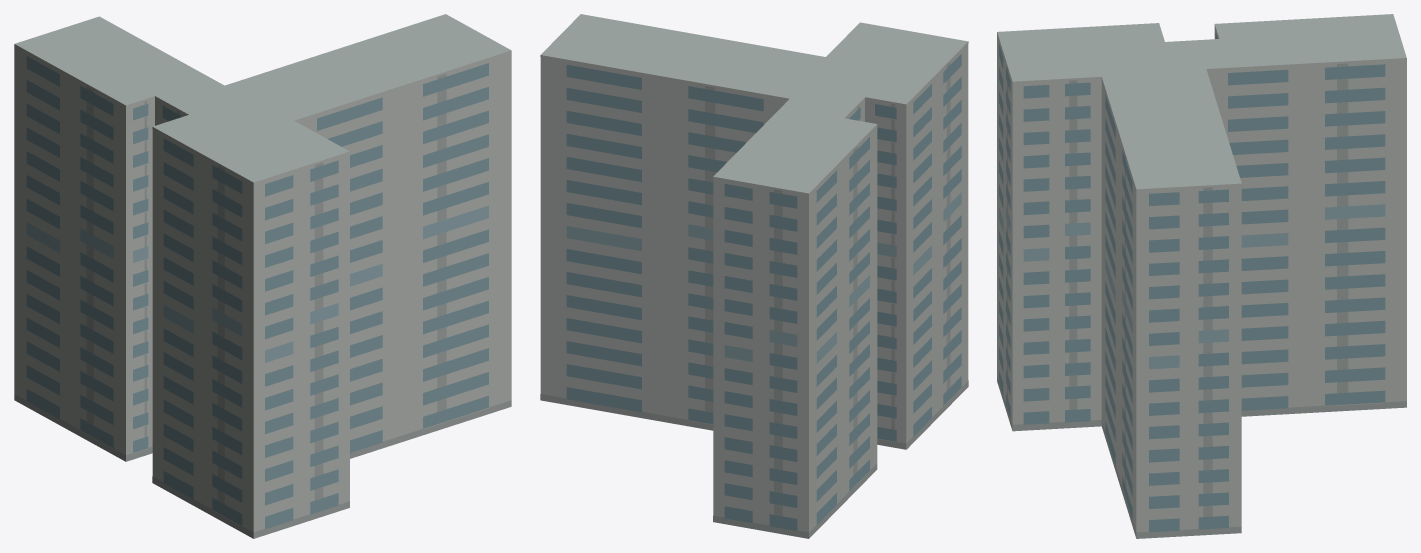
Rendered from residential-b37791e1-cdf1-412c-bd54-f1cf3bf06a0a.glb.
The picture shows the model from 3 angles, left to right: view 1: azimuth 30°, elevation 25°; view 2: azimuth 150°, elevation 25°; view 3: azimuth 270°, elevation 25°; orthographic projection. The views are drawn at different scales.
Visible parts, largest first — view 1: residential-b37791e1-cdf1-412c-bd54-f1cf3bf06a0a.tmp; view 2: residential-b37791e1-cdf1-412c-bd54-f1cf3bf06a0a.tmp; view 3: residential-b37791e1-cdf1-412c-bd54-f1cf3bf06a0a.tmp.
Part boxes in pixels (box(x1,y1,x2,y2)): residential-b37791e1-cdf1-412c-bd54-f1cf3bf06a0a.tmp: box(14, 14, 511, 538); residential-b37791e1-cdf1-412c-bd54-f1cf3bf06a0a.tmp: box(540, 14, 968, 538); residential-b37791e1-cdf1-412c-bd54-f1cf3bf06a0a.tmp: box(997, 14, 1406, 538).
Size of the model in its own units: 44.11 by 41 by 43.56.
